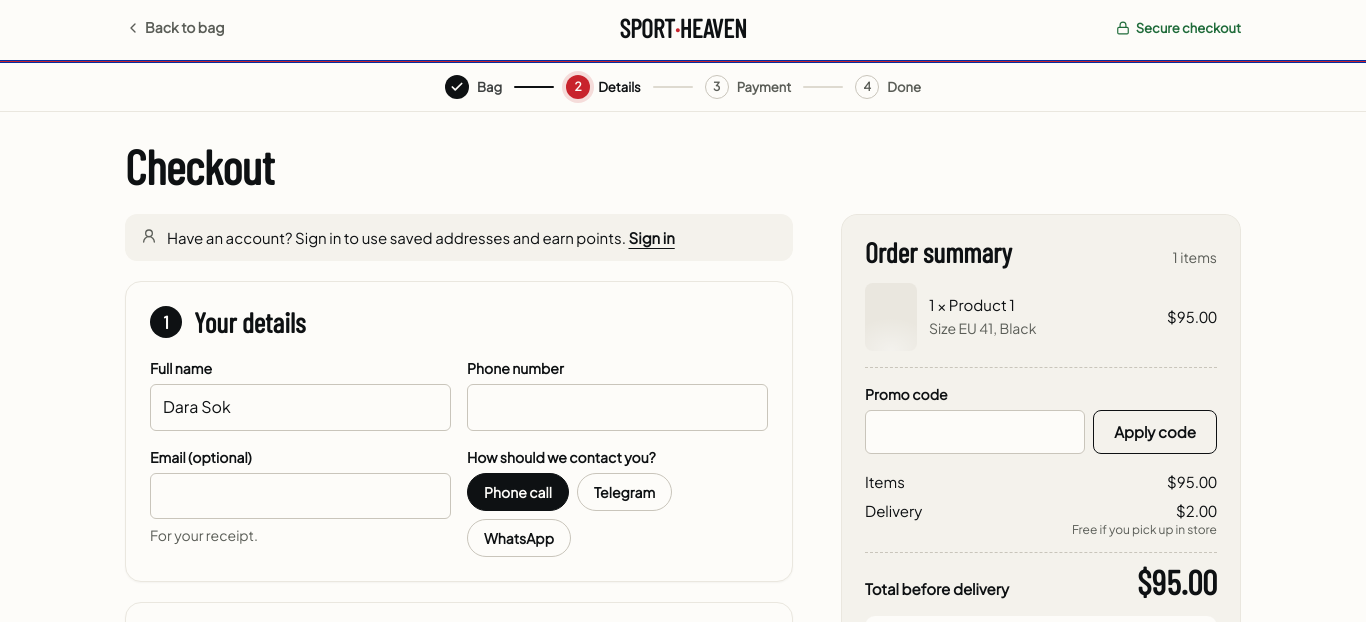
it: checkout › places a guest delivery order with a fresh idempotency key and goes to payment
Earlier steps of the test are not shown.
Later steps or results of the test are not shown.
In the field labelled "Phone number": (618, 407) left=467, top=384, right=768, bottom=431, type "012 345 678"
(page scrolled)
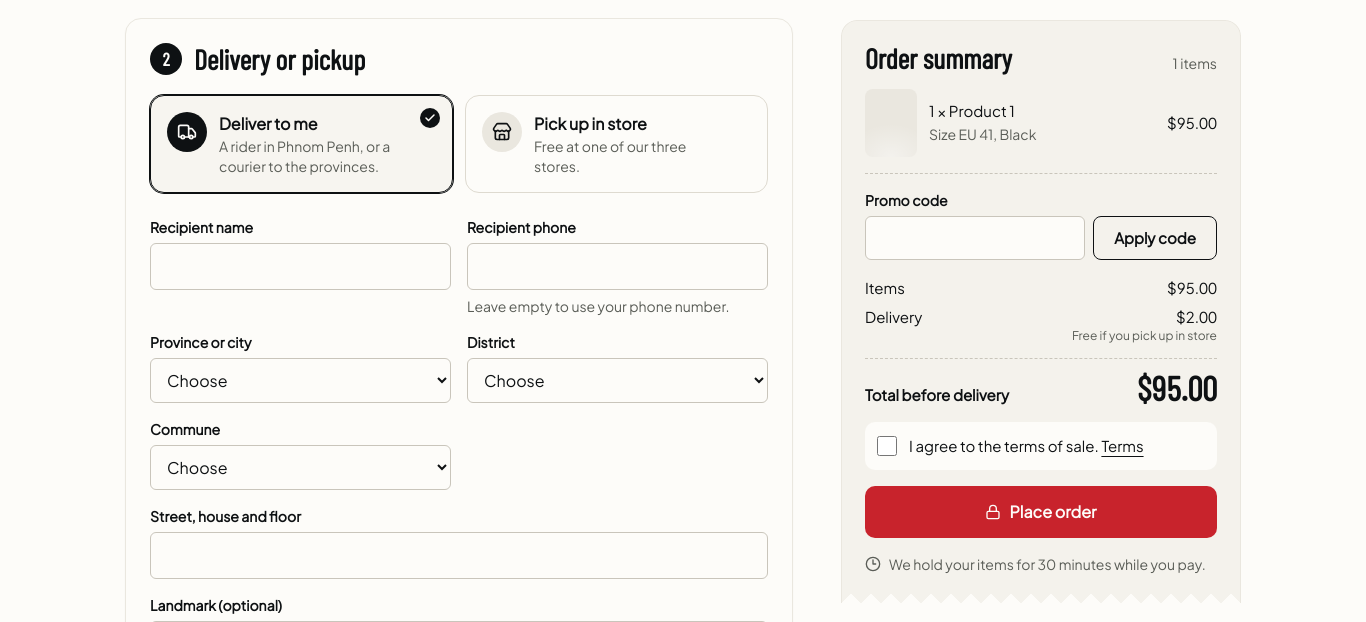
Select "Phnom Penh" in the dropdown labelled "Province or city": (300, 381) left=150, top=358, right=451, bottom=403
Select "Chamkar Mon" in the dropdown labelled "District": (618, 381) left=467, top=358, right=768, bottom=403
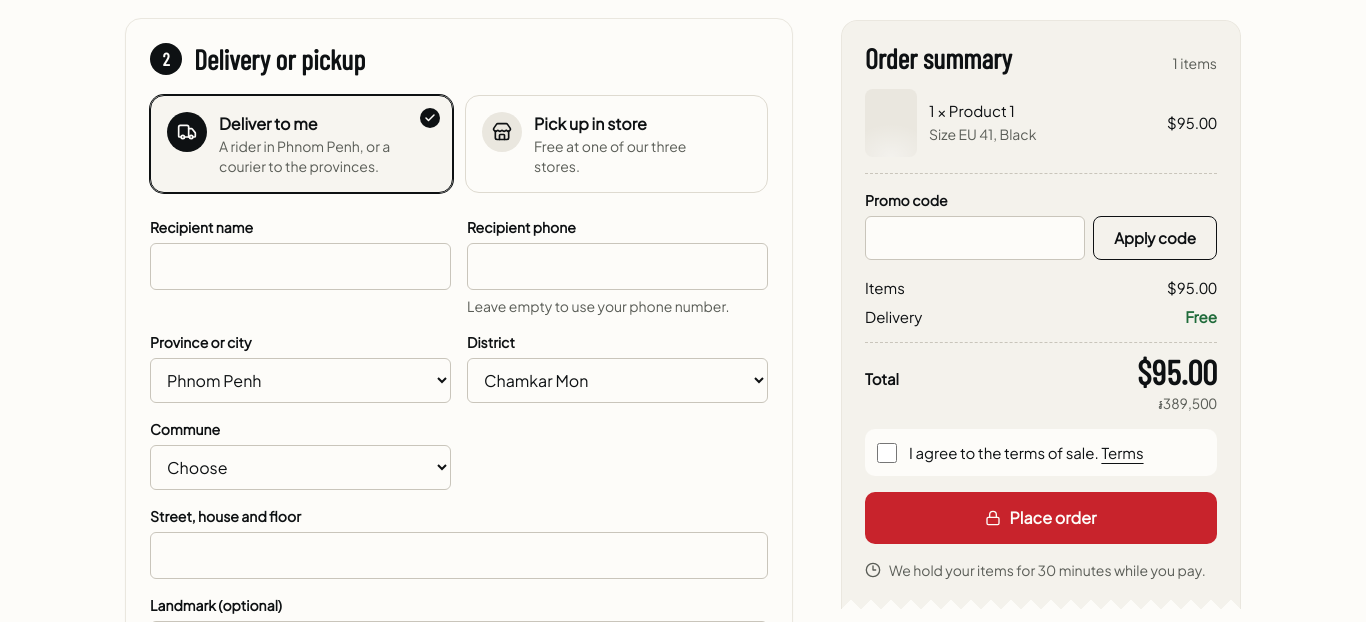
Select "Tonle Bassac" in the dropdown labelled "Commune": (300, 468) left=150, top=445, right=451, bottom=490
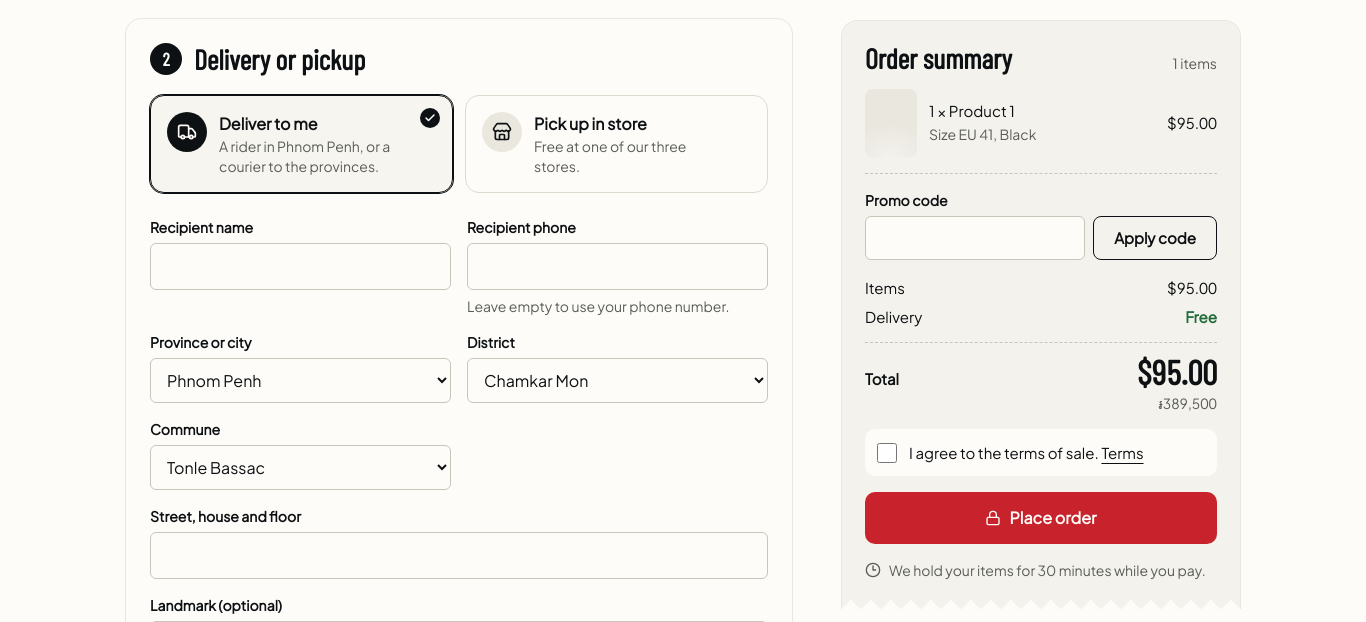
In the field labelled "Street, house and floor": (459, 556) left=150, top=532, right=768, bottom=579, type "St 51, house 12"
(page scrolled)
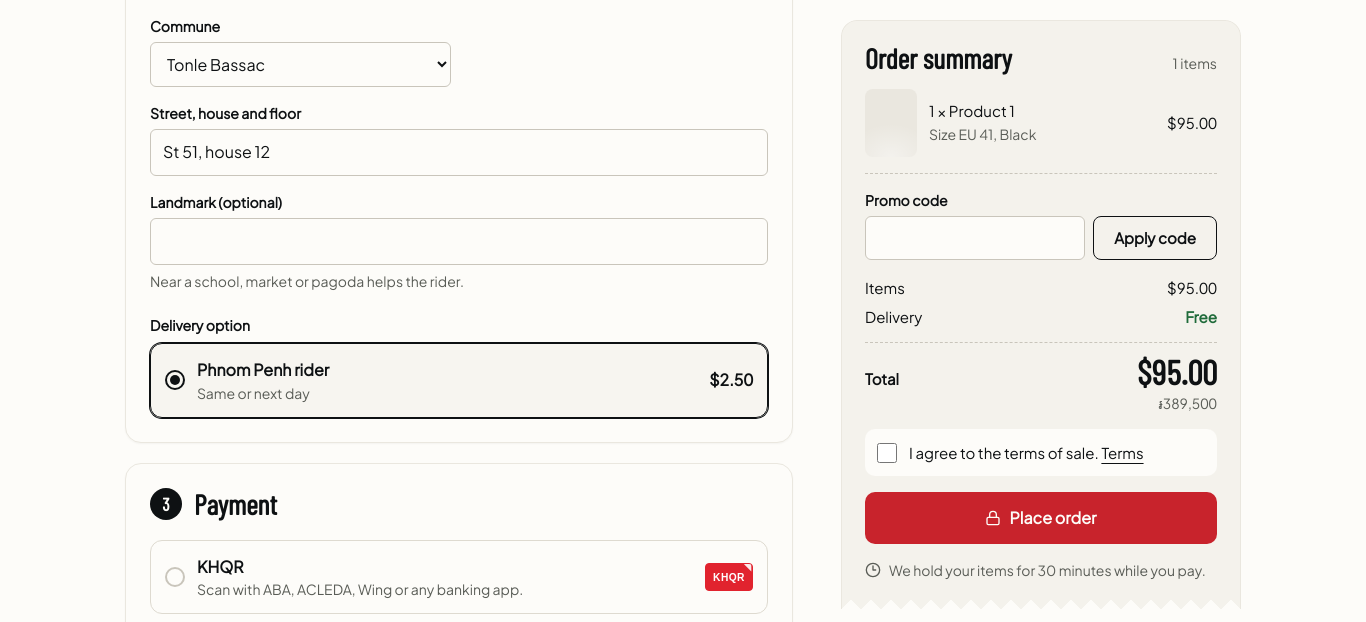
Click the radio button labelled "Phnom Penh rider Same or next day $2.50": (263, 369) left=150, top=343, right=768, bottom=418
Click the radio button labelled "KHQR Scan with ABA, ACLEDA, Wing or any banking app. KHQR": (220, 566) left=150, top=540, right=768, bottom=614
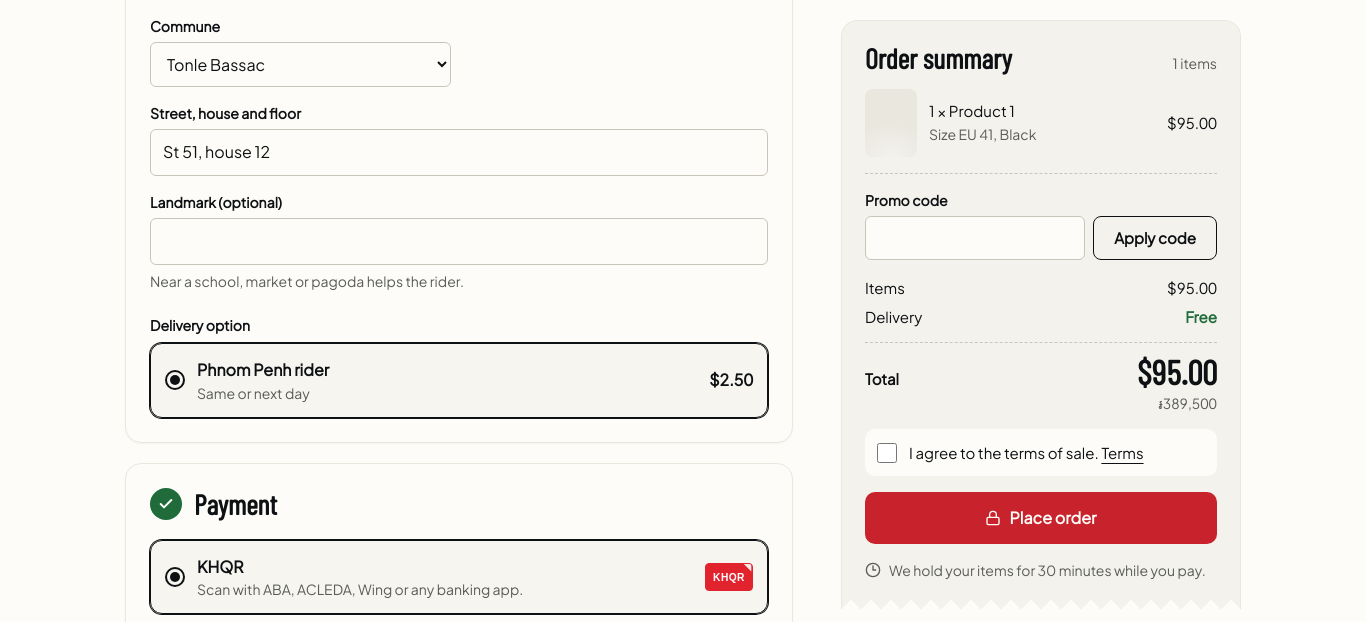
Click the checkbox labelled "I agree to the terms of sale. Terms": (887, 454) left=877, top=444, right=897, bottom=464
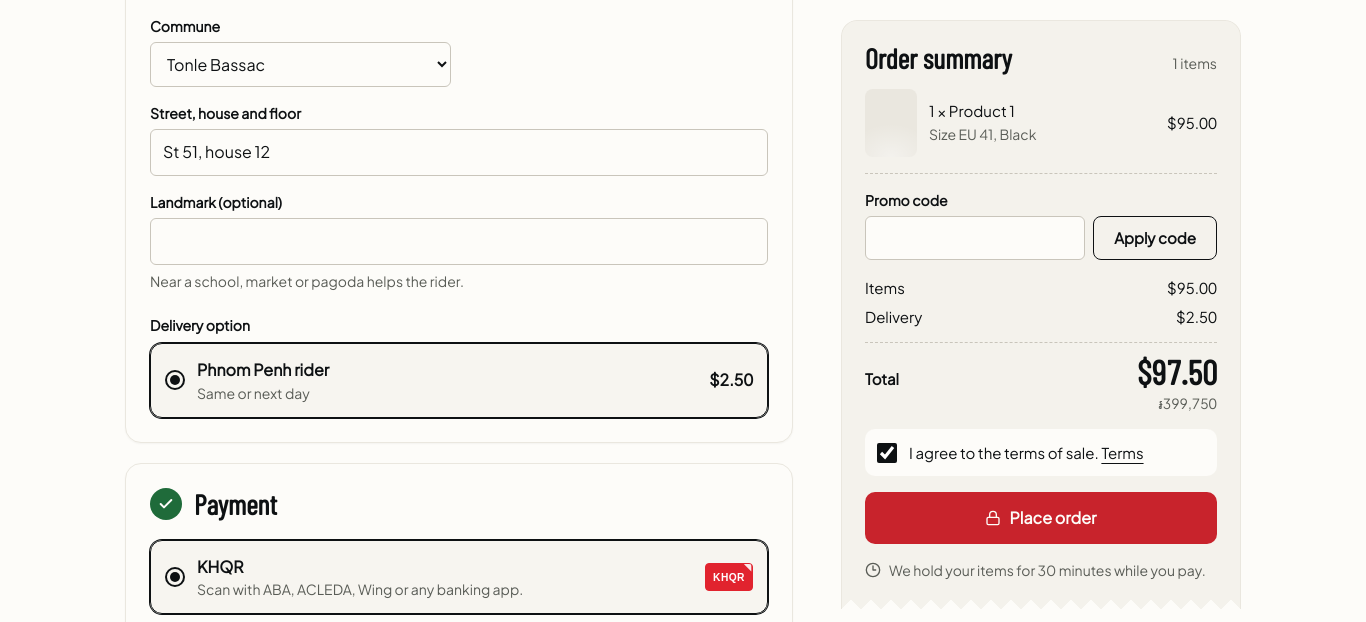
Now the text "$97.50" is shown, box left=1137, top=356, right=1217, bottom=390
